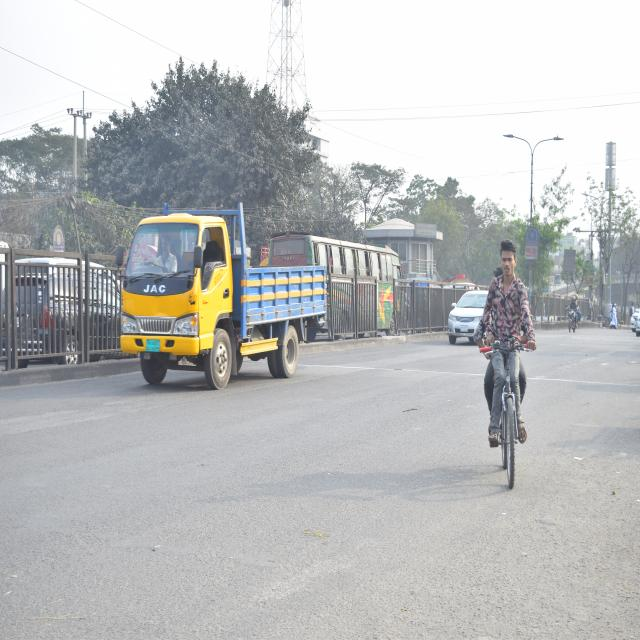bus: (266, 228, 403, 331)
car: (443, 285, 493, 344)
motorbike: (566, 300, 580, 336)
pickup-van: (117, 199, 326, 391)
